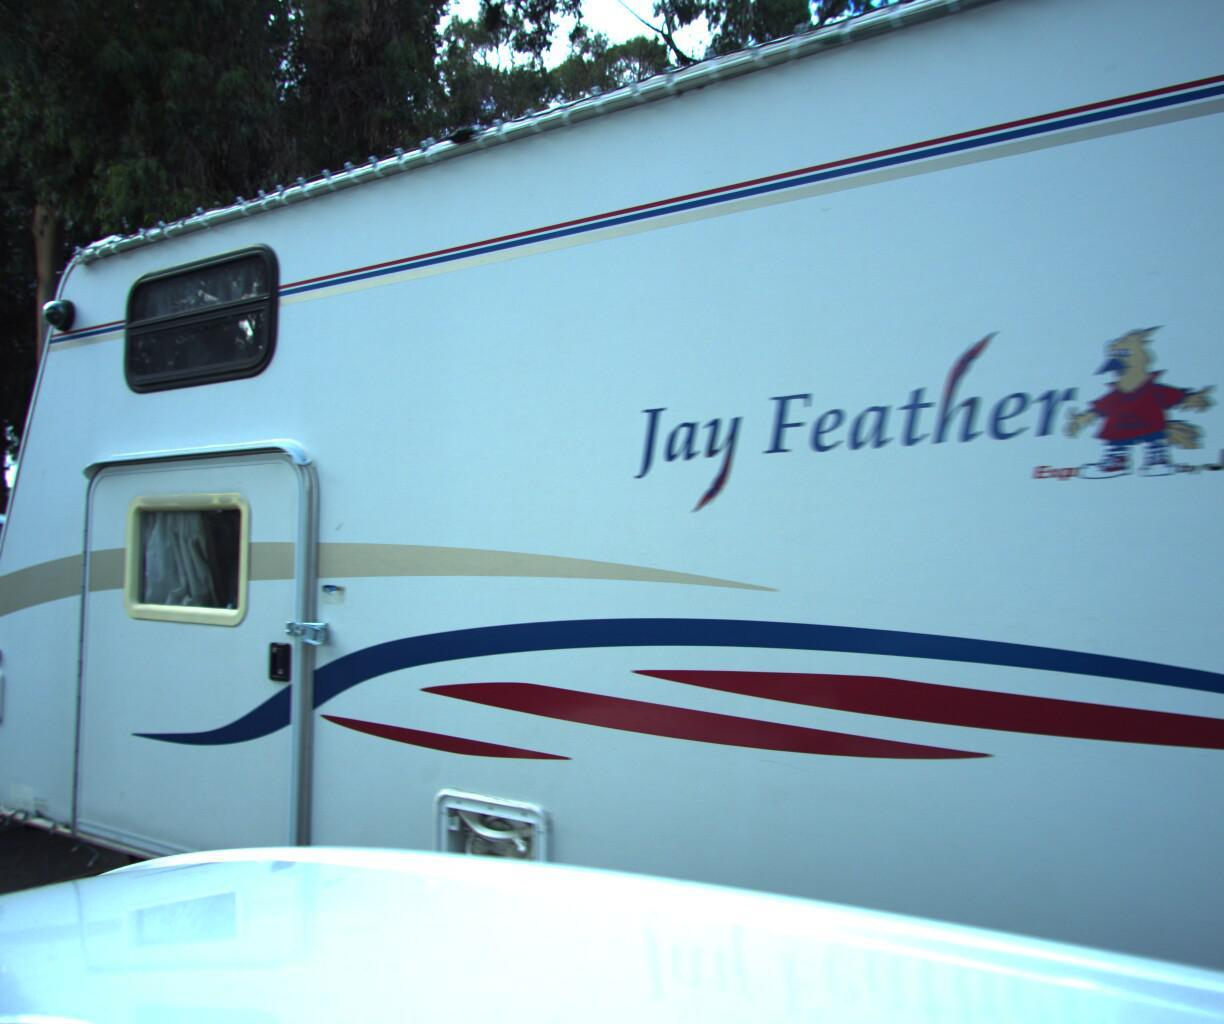car: (0, 478, 270, 911)
